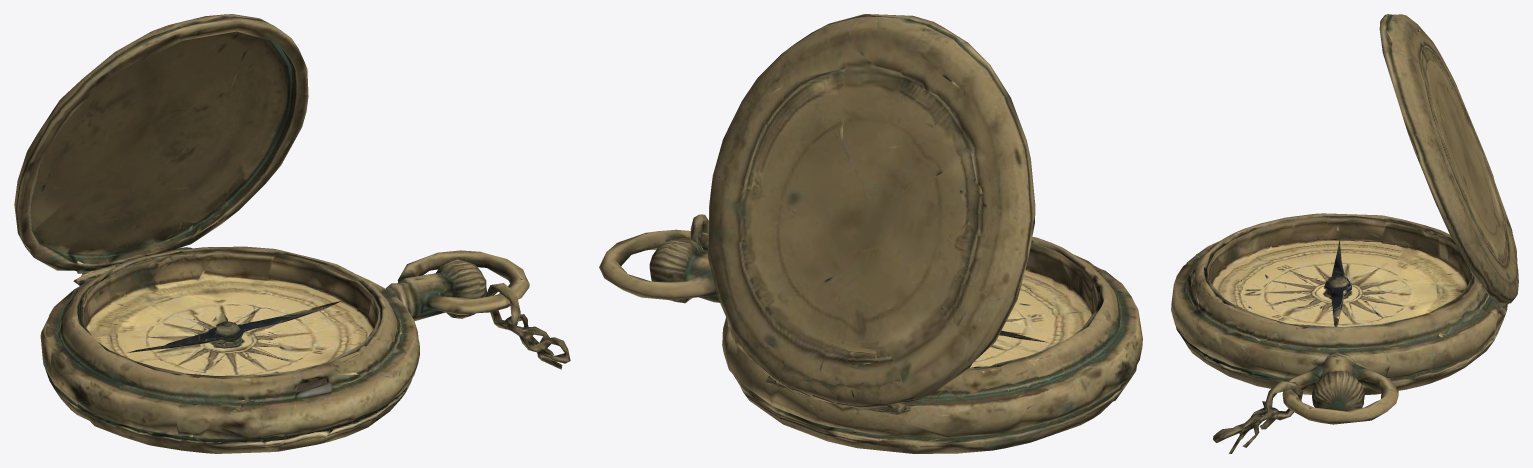
File: pocket_compass.71ef6800.glb
3 views of the same model, side by side, from view 1: azimuth 30°, elevation 25°; view 2: azimuth 150°, elevation 25°; view 3: azimuth 270°, elevation 25° (orthographic). The views are drawn at different scales.
Visible parts, largest first — view 1: item; view 2: item; view 3: item.
Boxes of the visible parts, x1,y1,x2,y2 form: item: (14, 14, 570, 453); item: (599, 14, 1142, 453); item: (1171, 14, 1518, 453).
Size of the model in its own units: 0.1317 by 0.0971 by 0.0998.
Materials: 1 (1 with a texture image).
